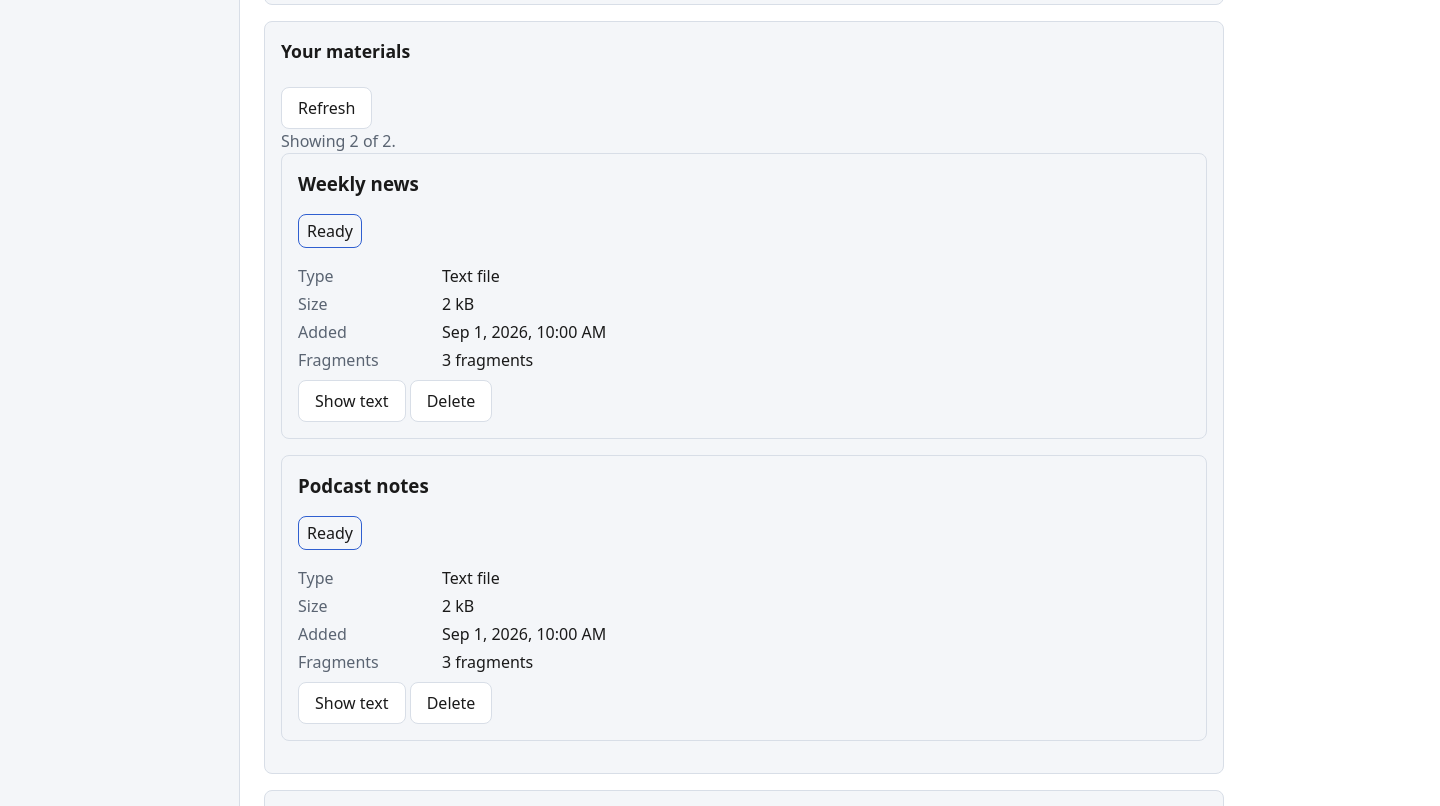
Test case: список материалов › удаляет материал только после подтверждения и перечитывает список
The image size is (1440, 806).
(page scrolled)
Expected: the heading "Weekly news" is shown, [298,171,419,196]
Click the button "Delete" below "Weekly news": (451, 401) [410,380,492,422]
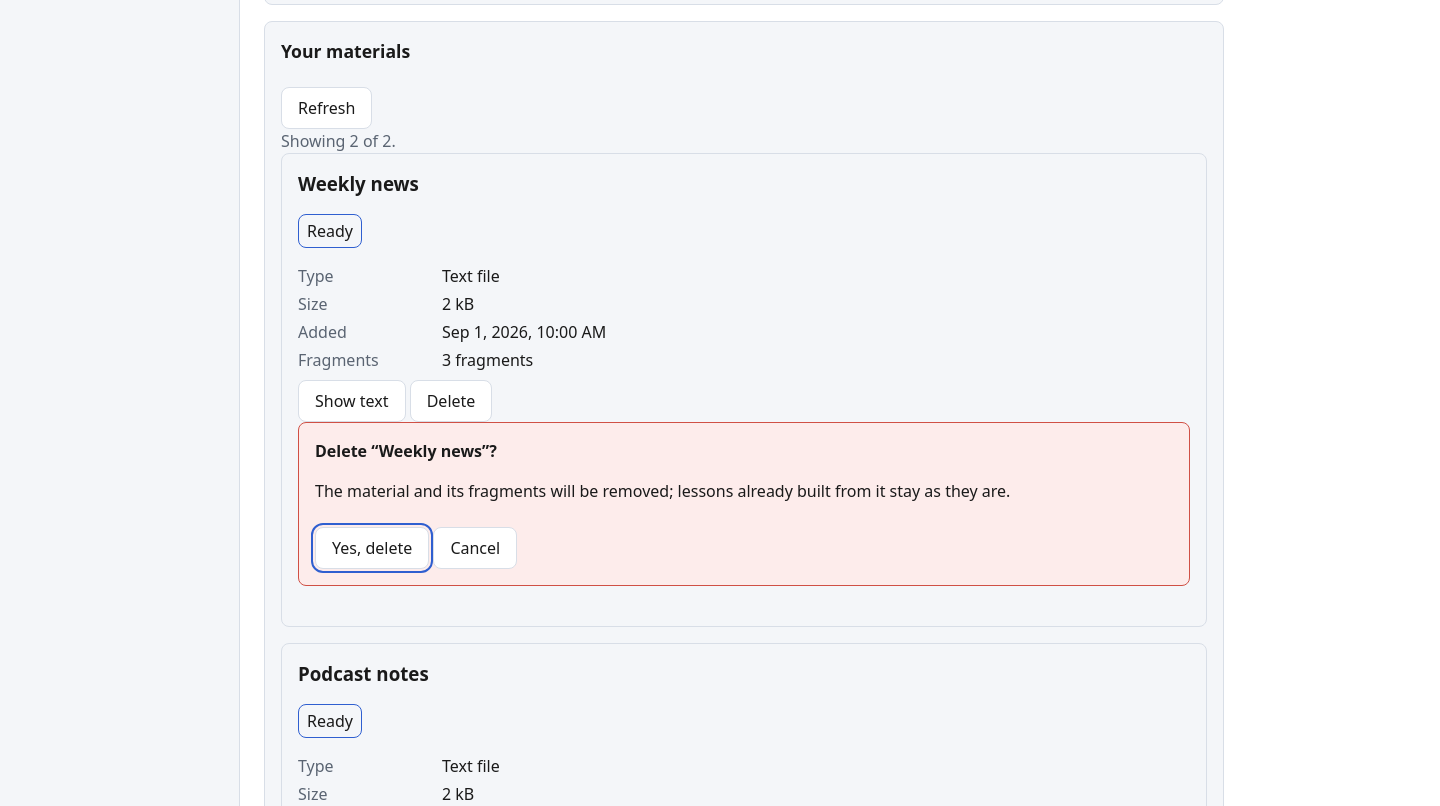
Click the button "Yes, delete": (372, 548) [315,527,429,569]
(page scrolled)
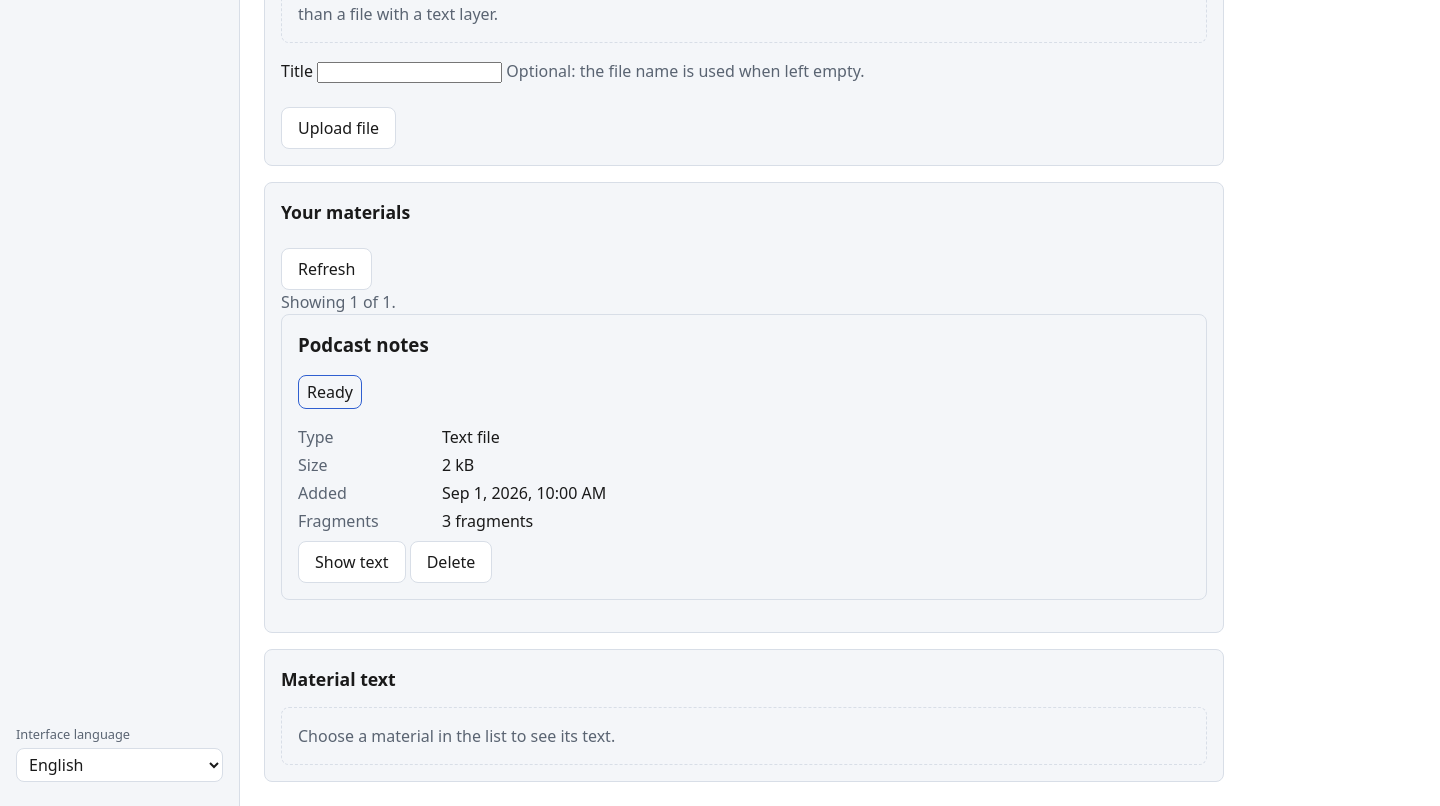
Expected: the heading "Podcast notes" is shown, [298,332,429,357]
Result: the heading "Weekly news" is gone
